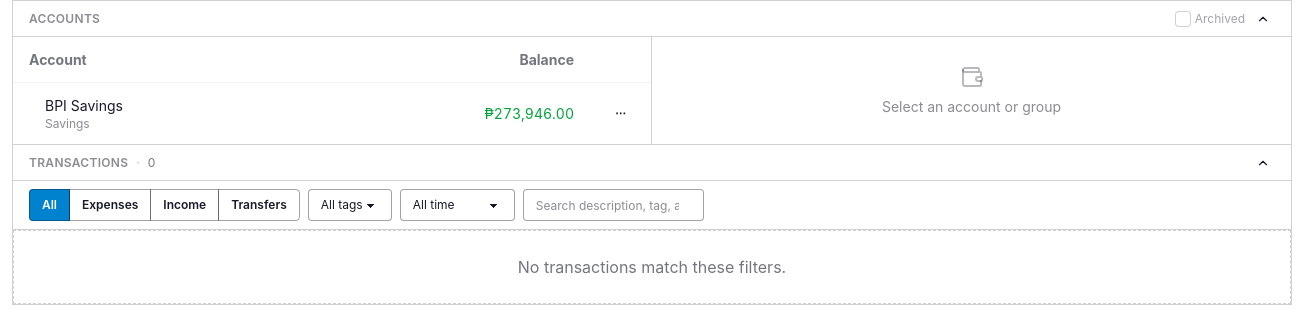
AccountsPanel › expands transactions section when strip is clicked
The width and height of the screenshot is (1304, 322).
Click the button named "fold transactions": (1263,162) [1251, 150, 1275, 174]
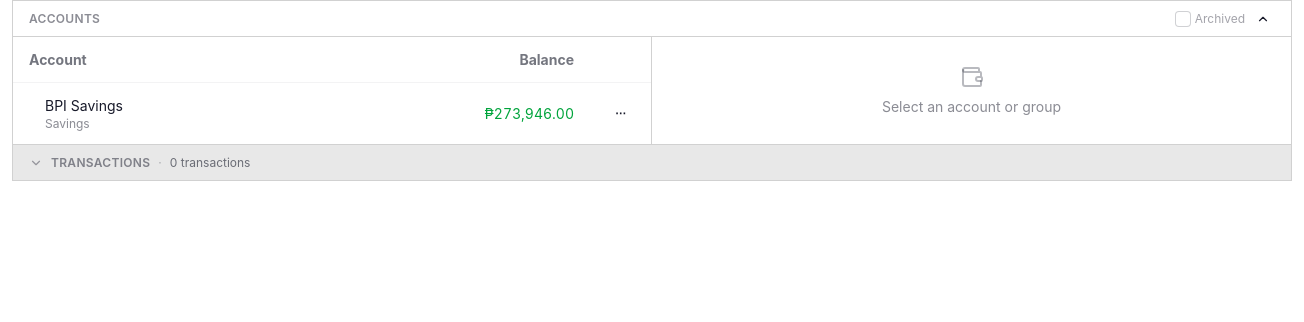
Click the button with aria-label "expand transactions": (101,162) [13, 144, 1291, 180]
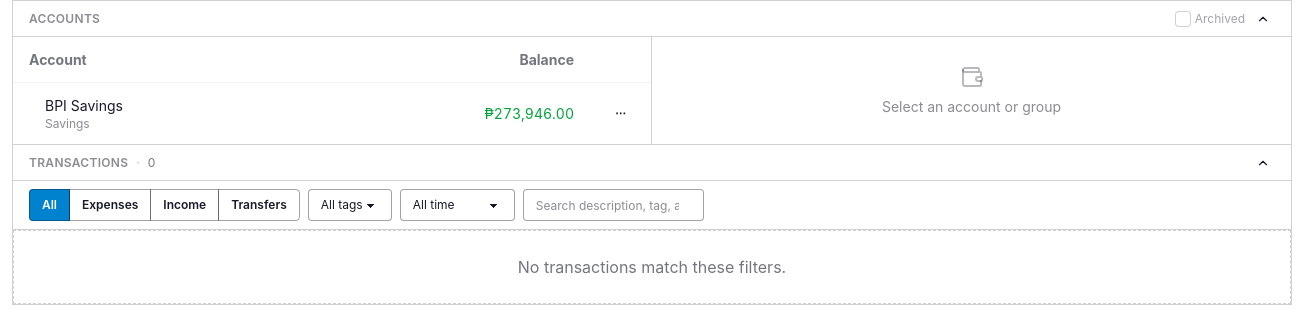
Now the button named "fold transactions" is shown, box [1251, 150, 1275, 174]
